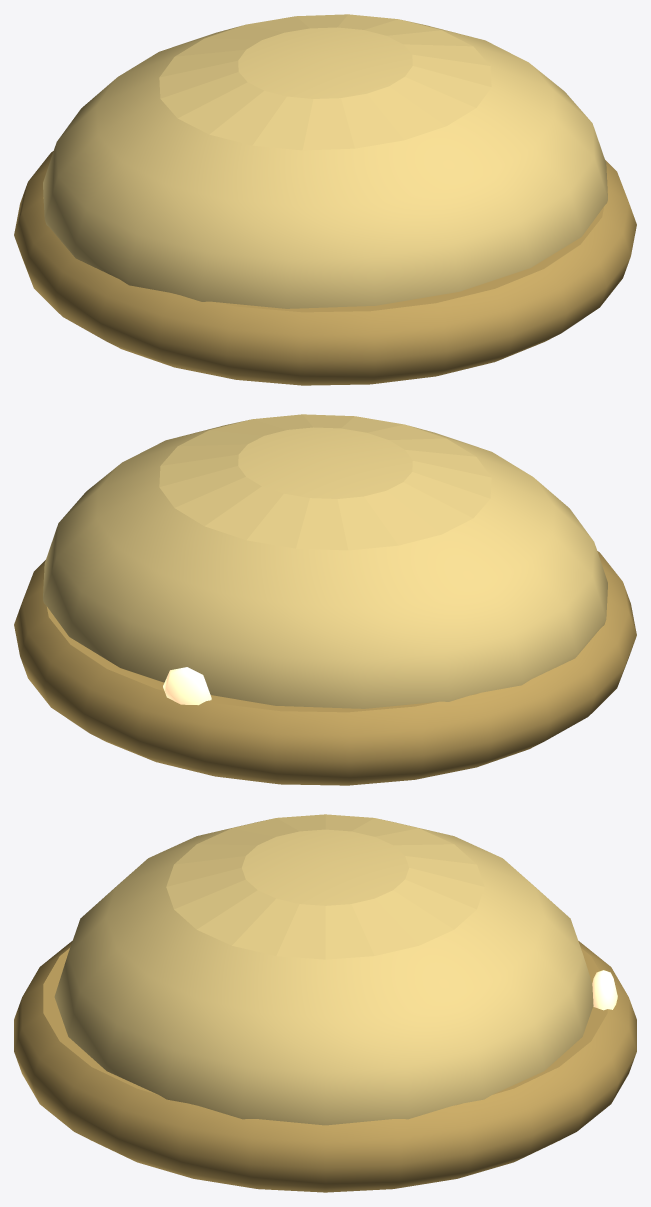
File: Acc_Turban.fbx
The picture shows the model from 3 angles, top to bottom: view 1: azimuth 30°, elevation 25°; view 2: azimuth 150°, elevation 25°; view 3: azimuth 270°, elevation 25°; orthographic projection.
Parts seen in each view (by area): view 1: Turban, Turban_Wrap; view 2: Turban, Turban_Wrap, Turban_Gem; view 3: Turban, Turban_Wrap, Turban_Gem.
Boxes of the visible parts, x1,y1,x2,y2 form: Turban: [43, 14, 607, 308]; Turban_Wrap: [14, 151, 636, 385]; Turban: [43, 414, 607, 708]; Turban_Wrap: [14, 551, 636, 785]; Turban_Gem: [163, 667, 211, 705]; Turban: [54, 814, 593, 1125]; Turban_Wrap: [14, 941, 636, 1192]; Turban_Gem: [592, 970, 617, 1010].
Bounding box in the file's own units: 88 × 42 × 87.36.
